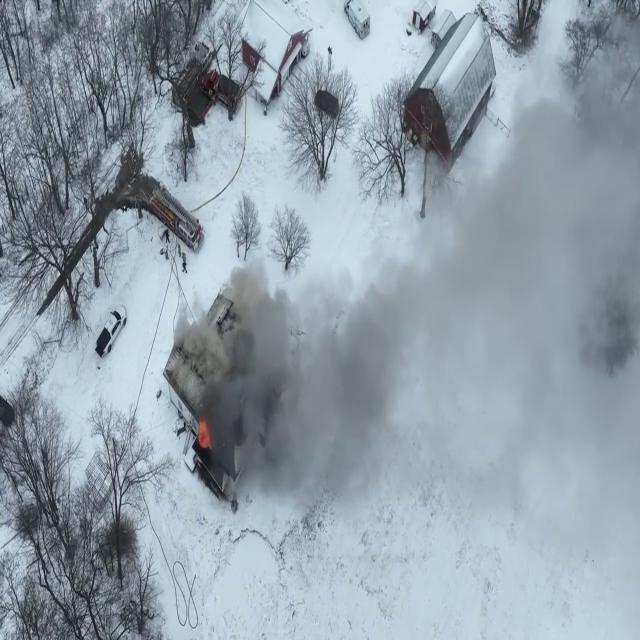Smoke: (175, 10, 640, 555)
